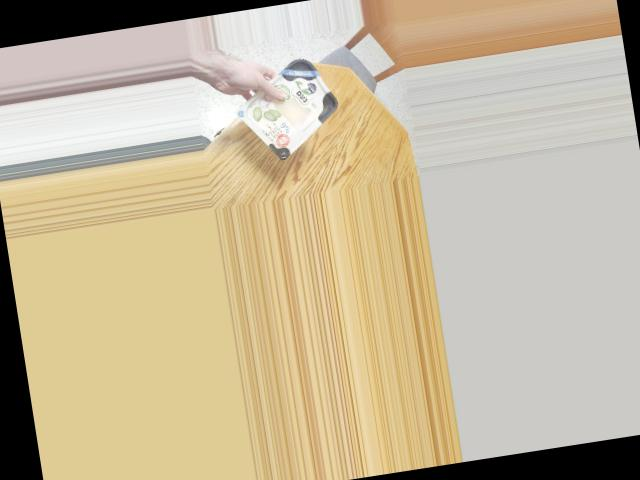cheese: (245, 48, 340, 157)
